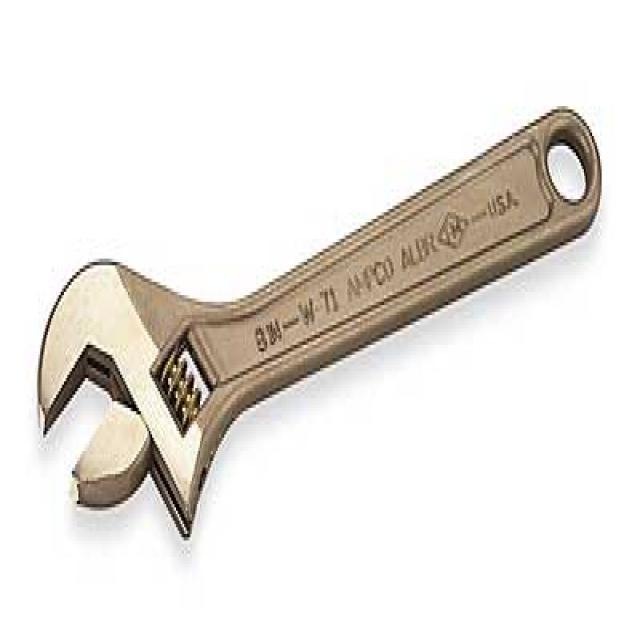wrench: (32, 93, 606, 556)
